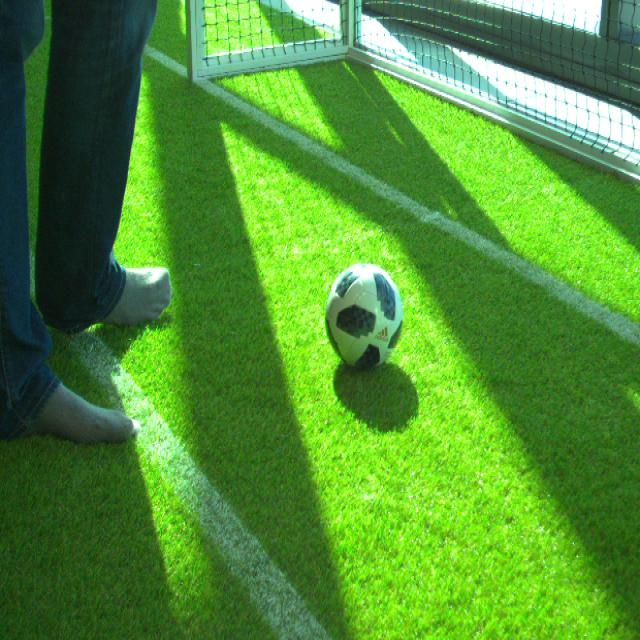ball: (325, 262, 406, 370)
goalpost: (186, 0, 205, 84)
